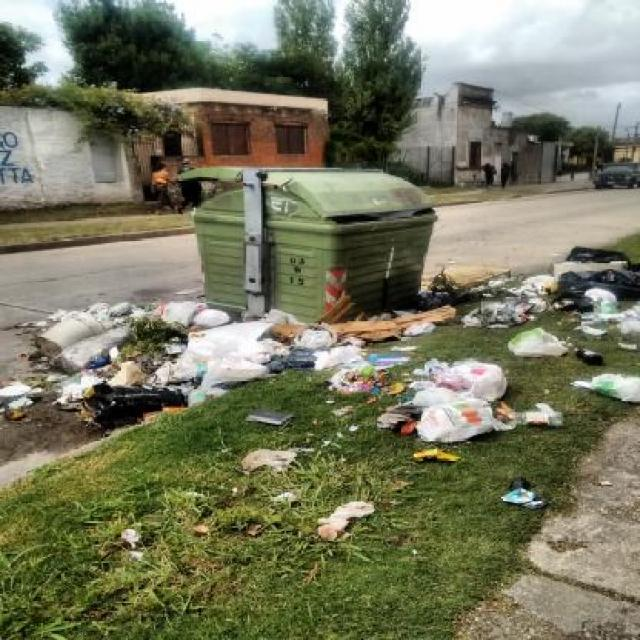garbage: (309, 322, 569, 480), (0, 302, 333, 421), (386, 248, 636, 370), (300, 497, 381, 540)
